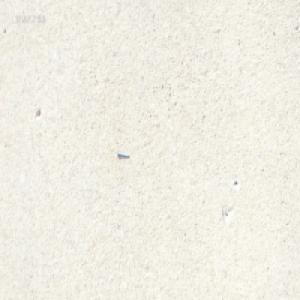Nail: (116, 149, 129, 157)
